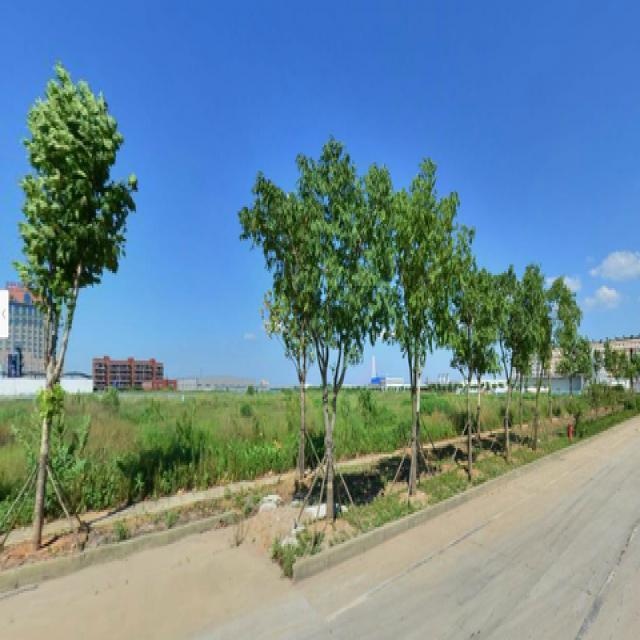meta: (9, 60, 115, 552)
